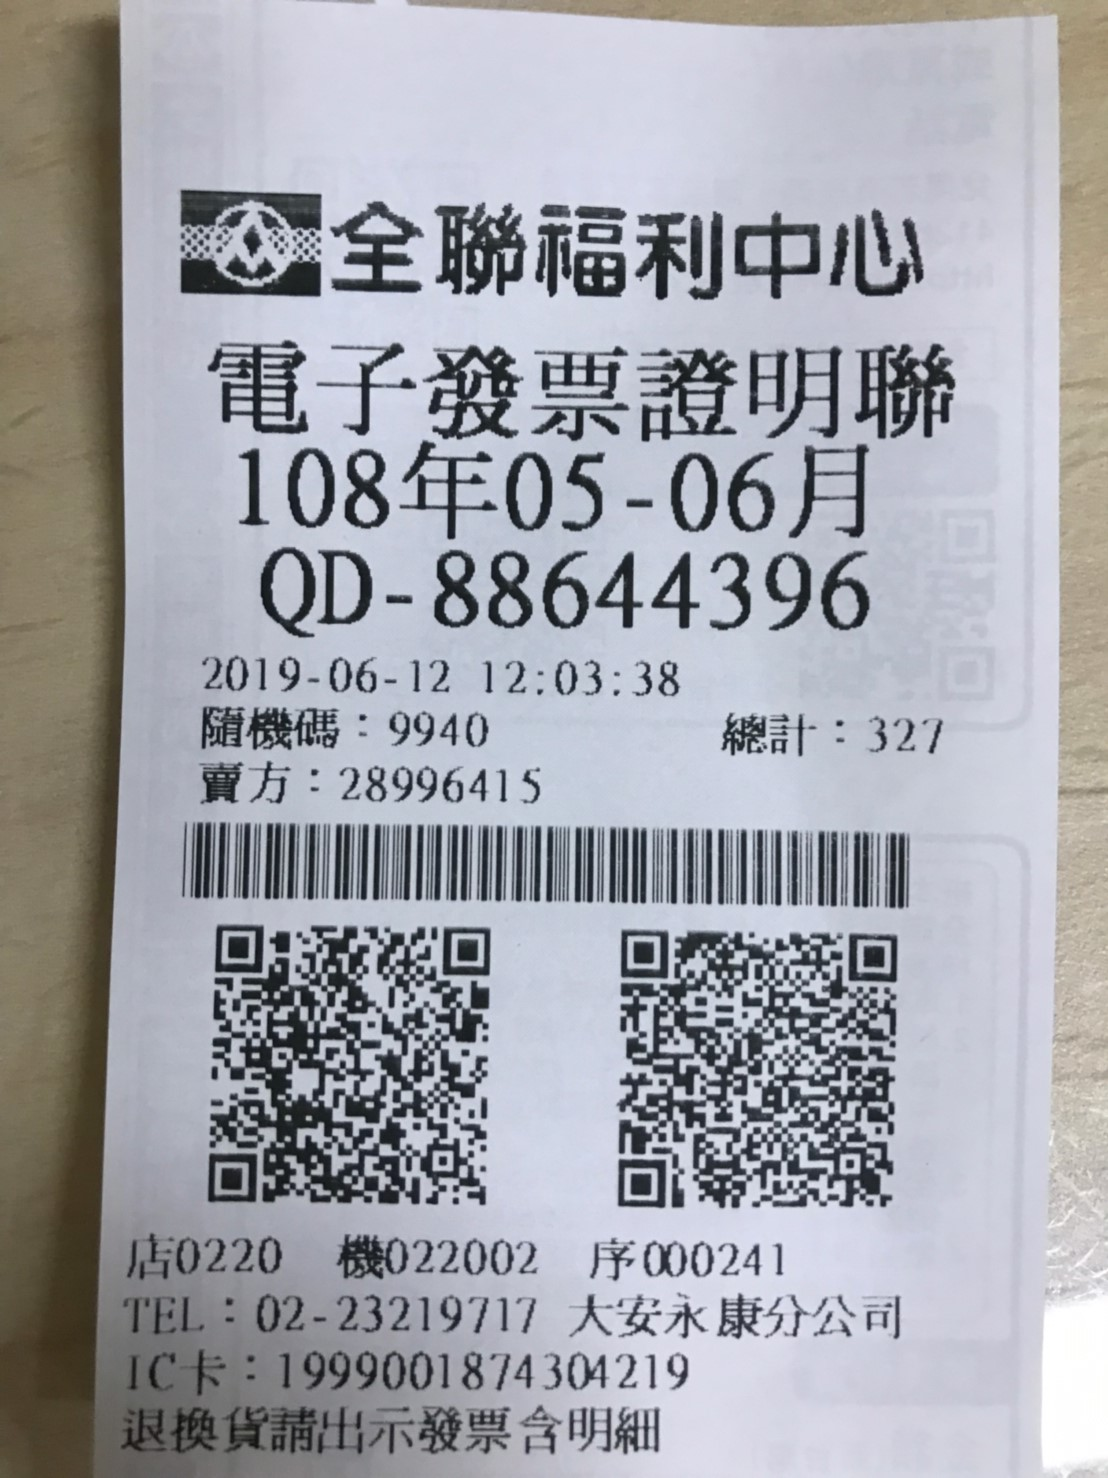Date_New: (236, 439, 871, 539)
Number_New: (428, 545, 876, 632)
